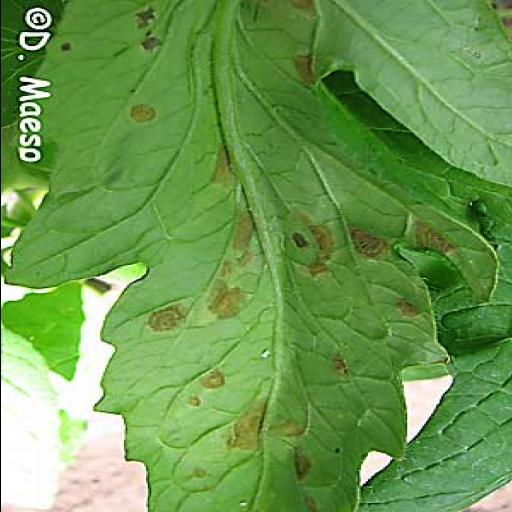Leaf Mold: (16, 0, 456, 512)
